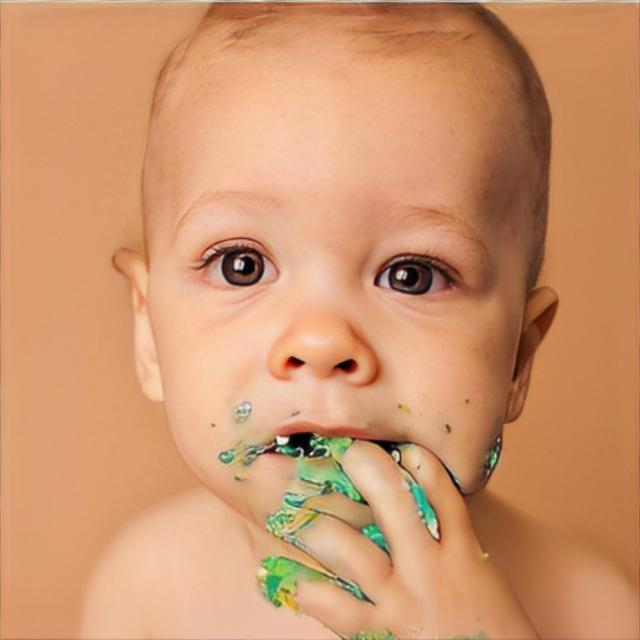surprise: (140, 0, 522, 544)
